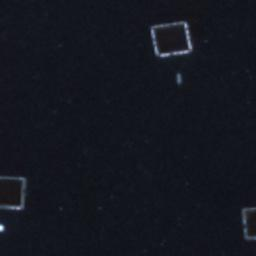square_solid: (146, 17, 196, 61), (1, 170, 30, 214), (237, 203, 256, 245)
